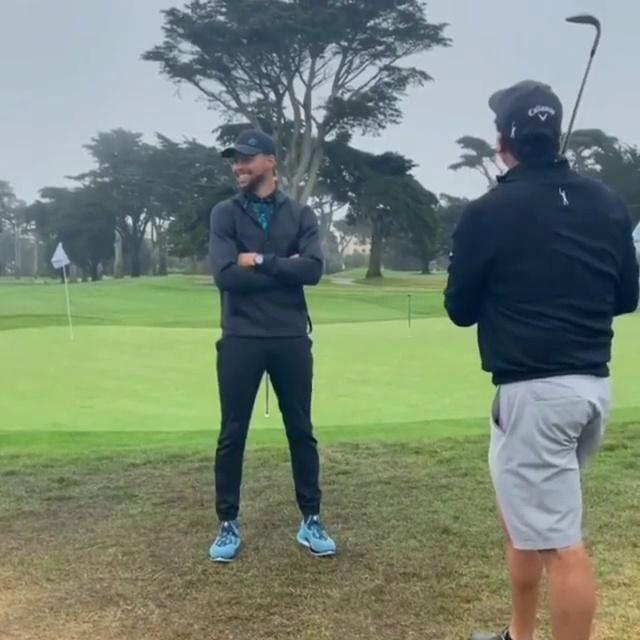ClubHead: (562, 13, 598, 26)
